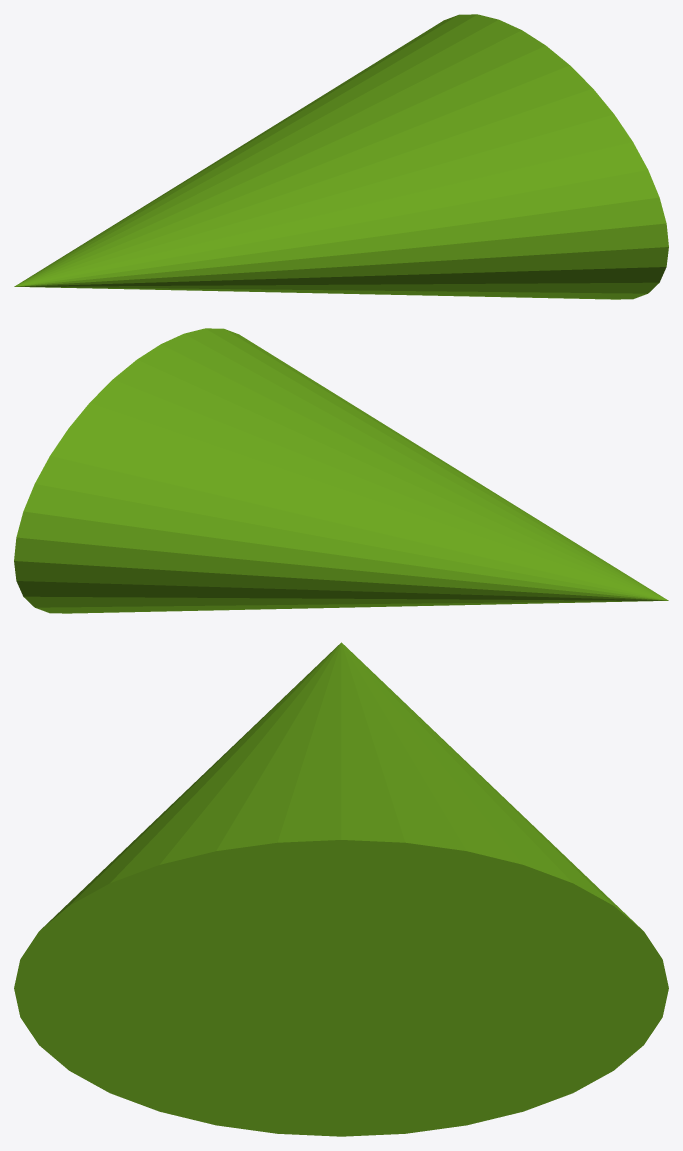
Rendered from GenjiTail.glb.
The picture shows the model from 3 angles, top to bottom: view 1: azimuth 30°, elevation 25°; view 2: azimuth 150°, elevation 25°; view 3: azimuth 270°, elevation 25°; orthographic projection. The views are drawn at different scales.
Parts seen in each view (by area): view 1: Tail; view 2: Tail; view 3: Tail.
Boxes of the visible parts, left/top/right/bottom form: Tail: left=14, top=14, right=668, bottom=299; Tail: left=14, top=328, right=668, bottom=613; Tail: left=14, top=642, right=668, bottom=1136.
Bounding box in the file's own units: 10 × 4 × 8.
